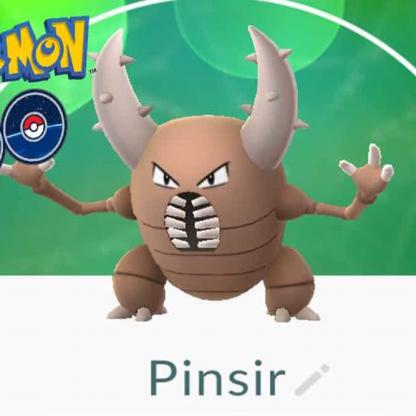Pinsir: (25, 13, 416, 416)
